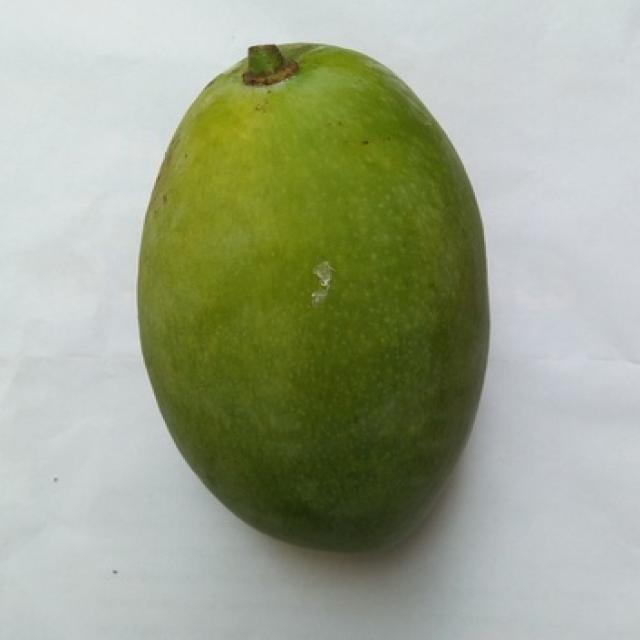Mango: (141, 43, 486, 551)
